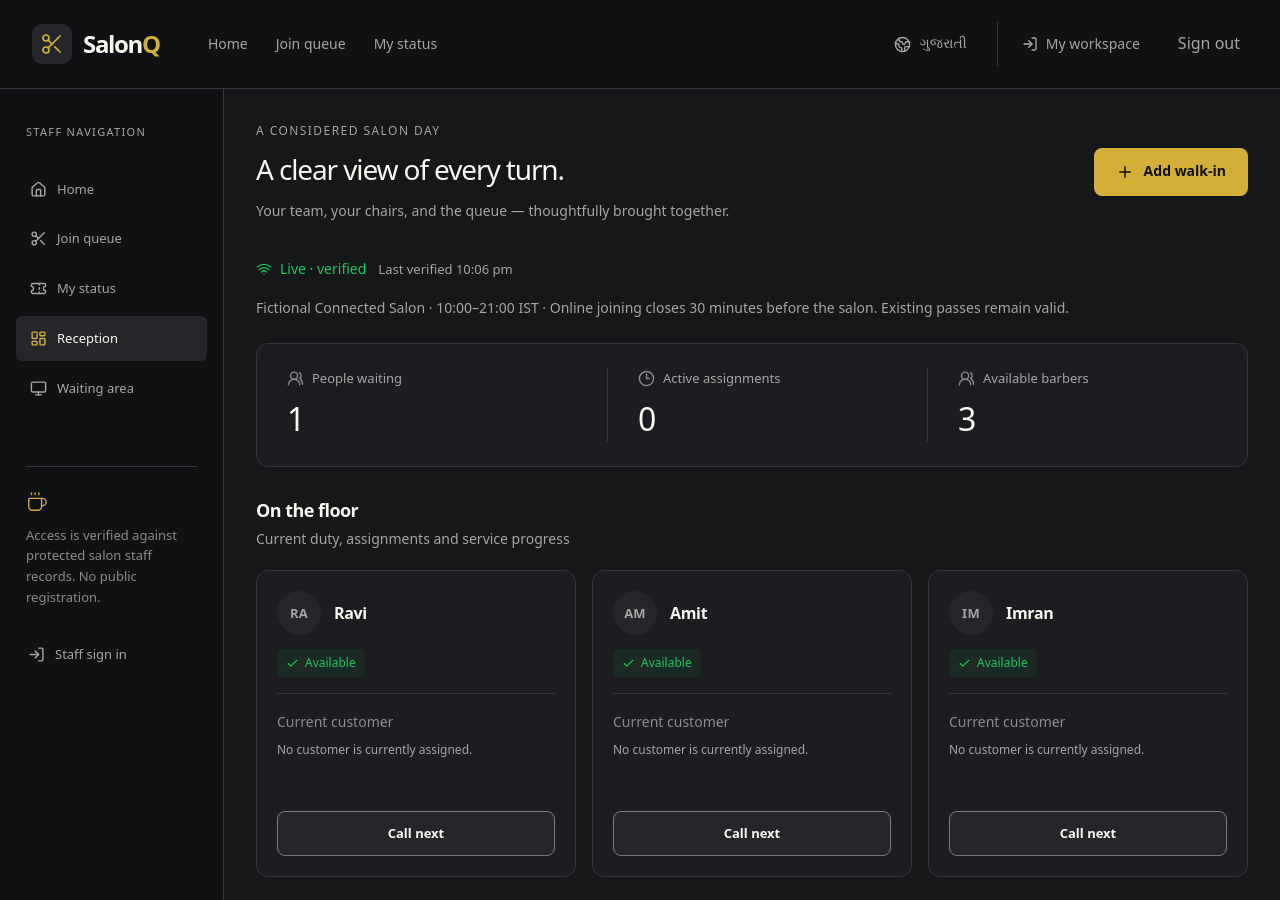
Scenario: Reception operational components › still opens the walk-in form during an online cutoff when walk-ins are permitted
The image size is (1280, 900).
Click the button "Add walk-in": (1171, 172) top-left (1094, 148), bottom-right (1248, 196)
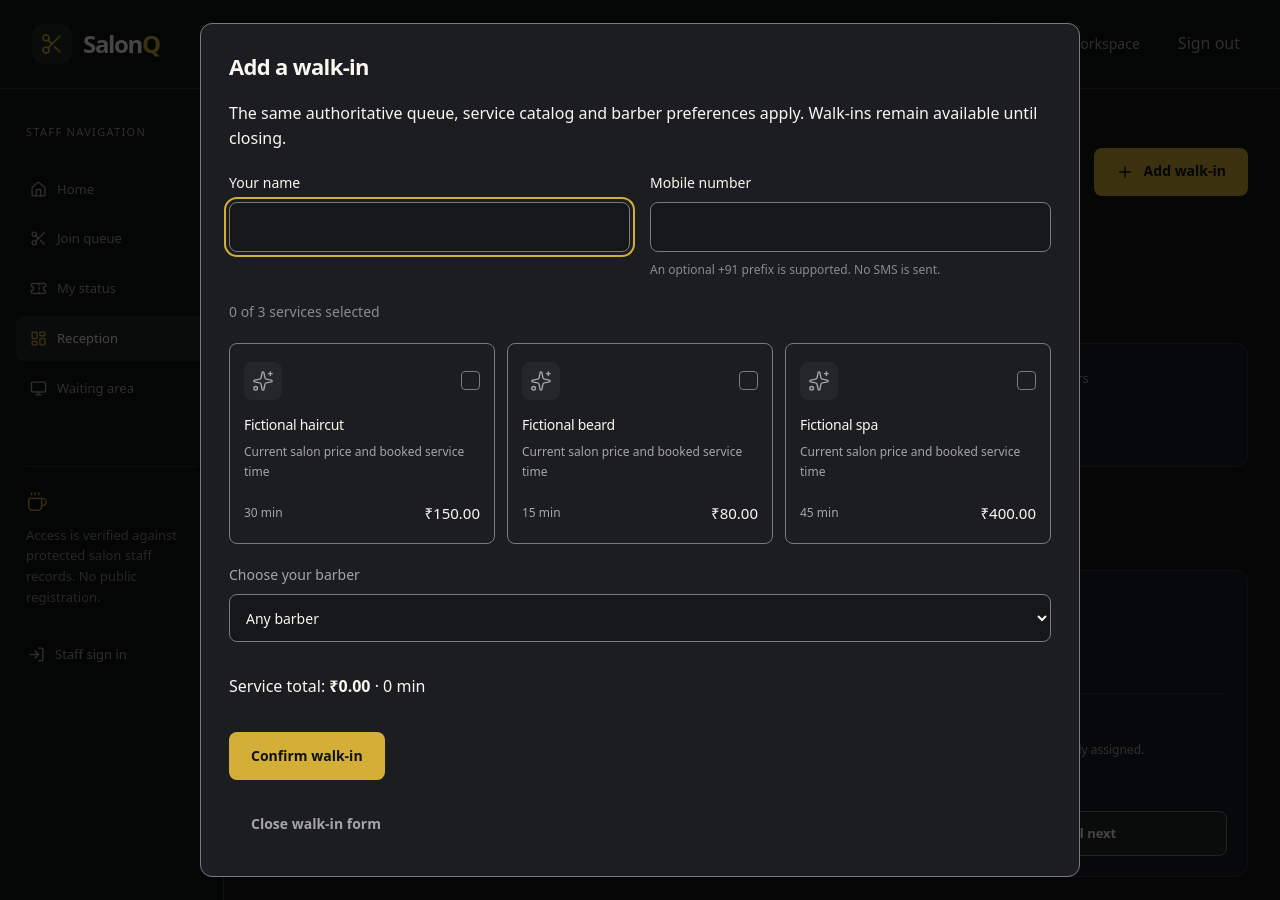
expect the dialog "Add a walk-in" is shown: met
